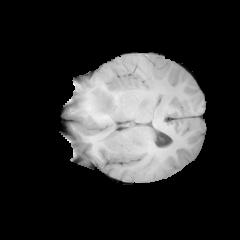glioma: (77, 89, 125, 129)
